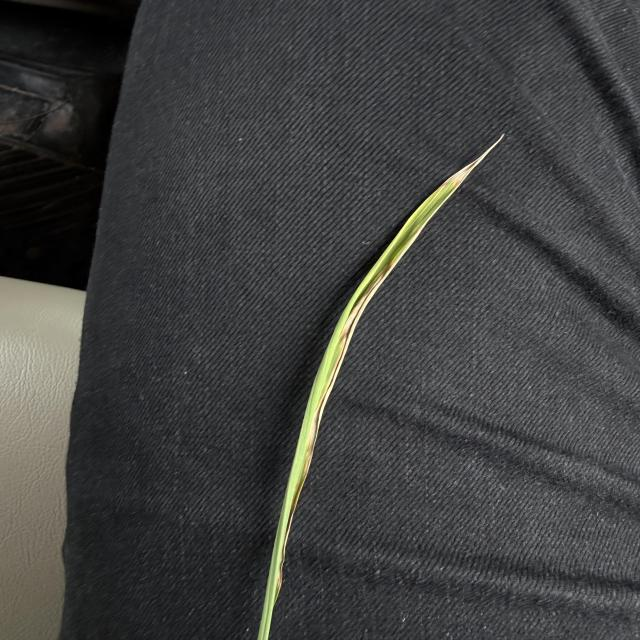Chay bia la: (276, 259, 399, 598), (437, 131, 508, 191)
